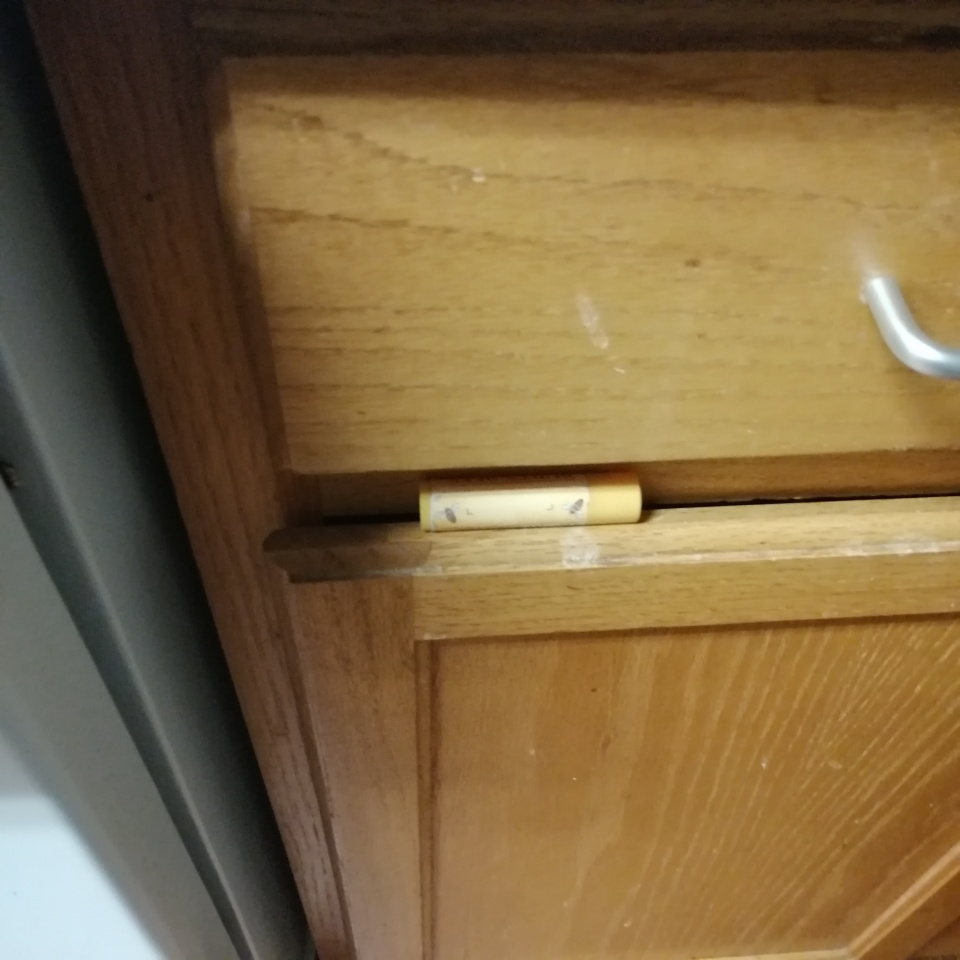chapstick: (418, 470, 646, 532)
